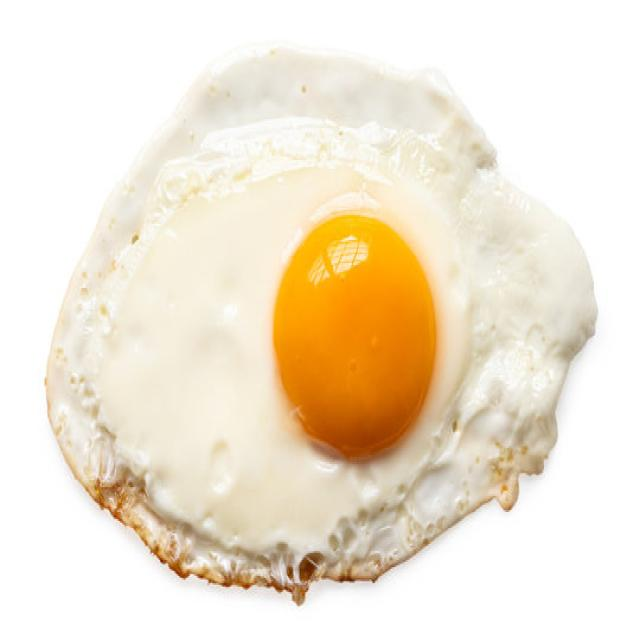Egg: (46, 47, 596, 603)
